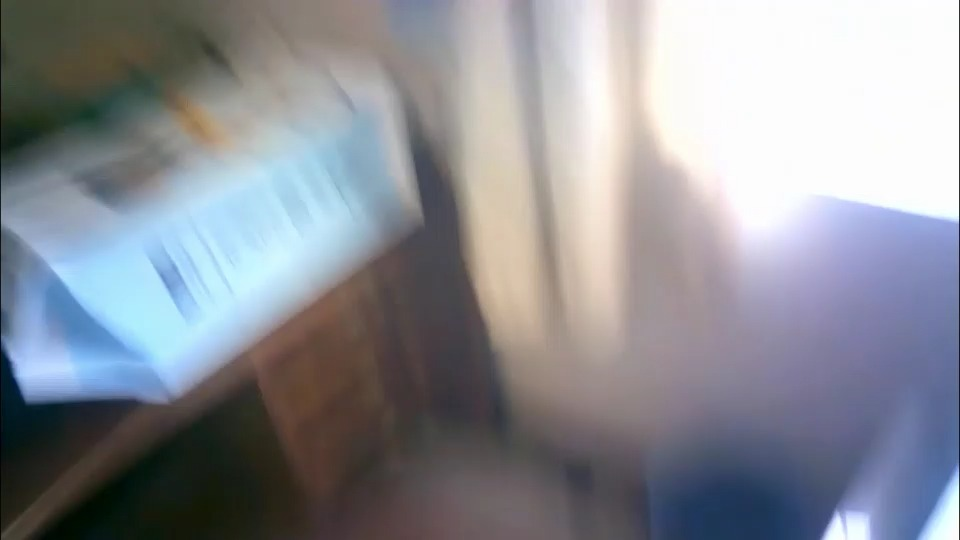wheat_flour_blue_label: (10, 45, 425, 399)
